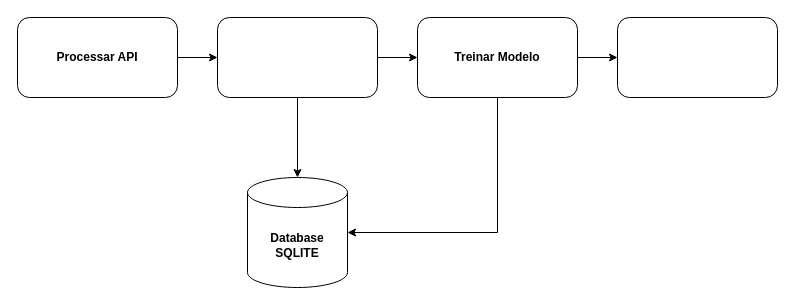
The diagram is 795 pixels wide and 305 high, and some of its shapes have lost their labels. Each missing label, with the centre of its shape:
Football-Data.org API: the point at 297,57
Modelo ML: the point at 697,57
